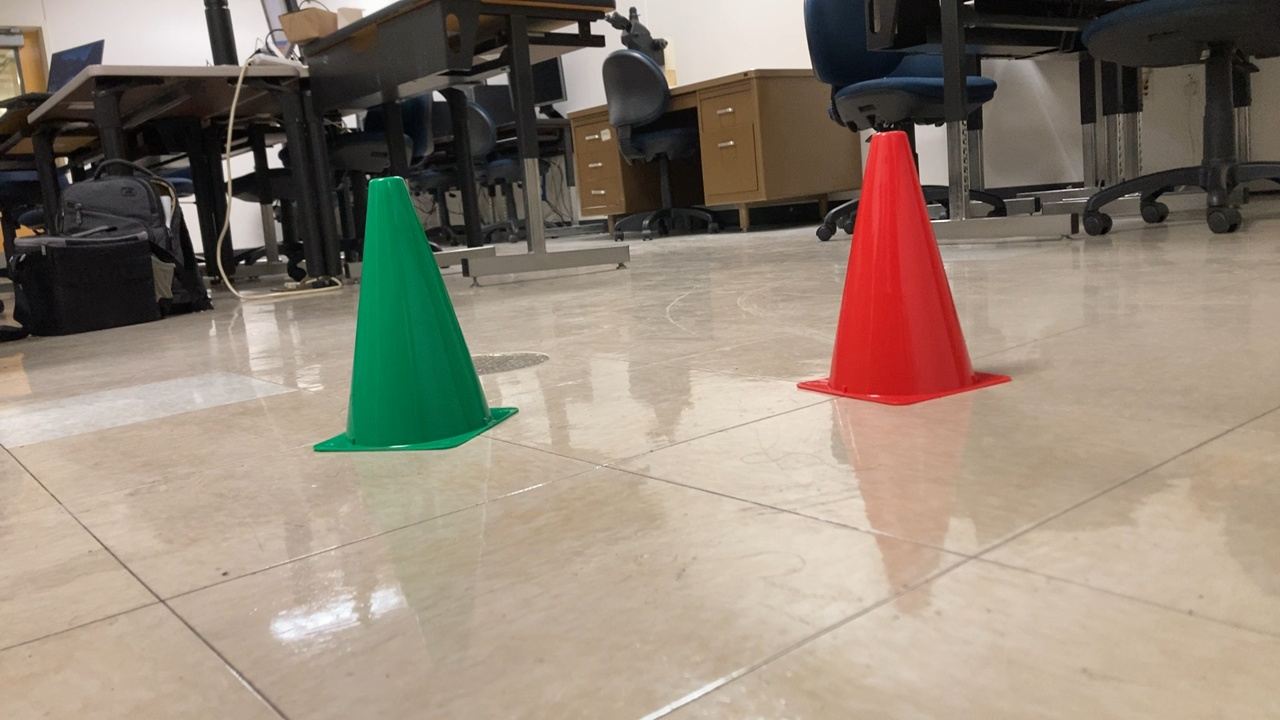green_cone: (308, 171, 523, 465)
red_cone: (791, 124, 1023, 412)
